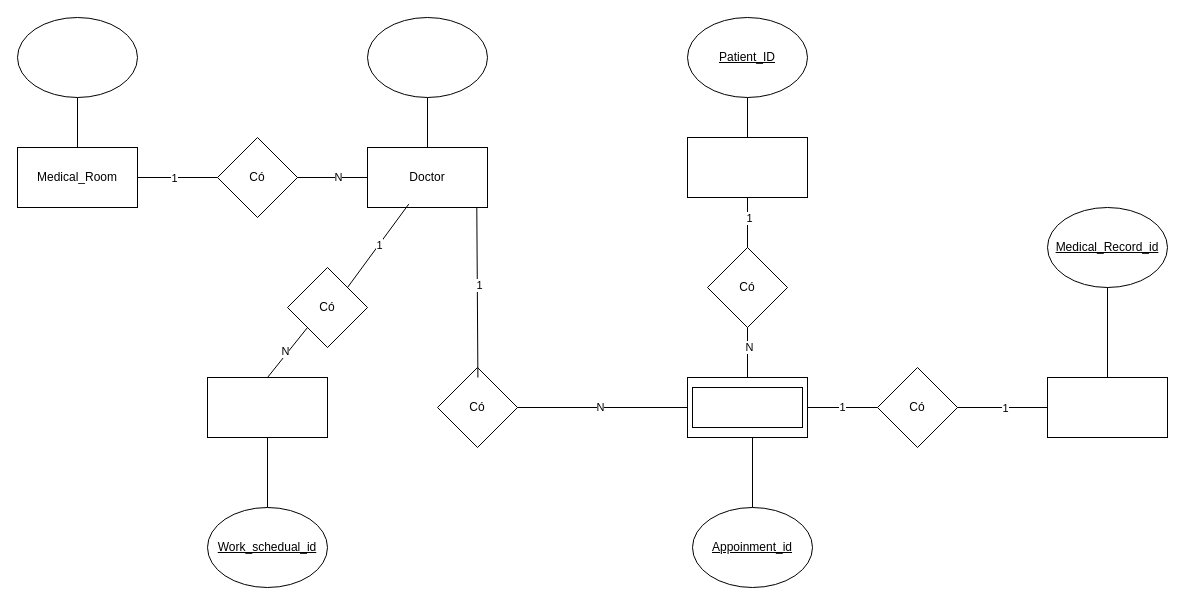
Some shapes in this 1185 by 605 pixel diagram are drawn without their labels. Each missing label, with the box of its shape:
Appoinment: (692, 386, 802, 428)
doctor ID: (366, 16, 488, 98)
Medical_Record: (1046, 376, 1168, 438)
Patient: (686, 136, 808, 198)
Room ID: (16, 16, 138, 98)
Work_Schedule: (206, 376, 328, 438)
